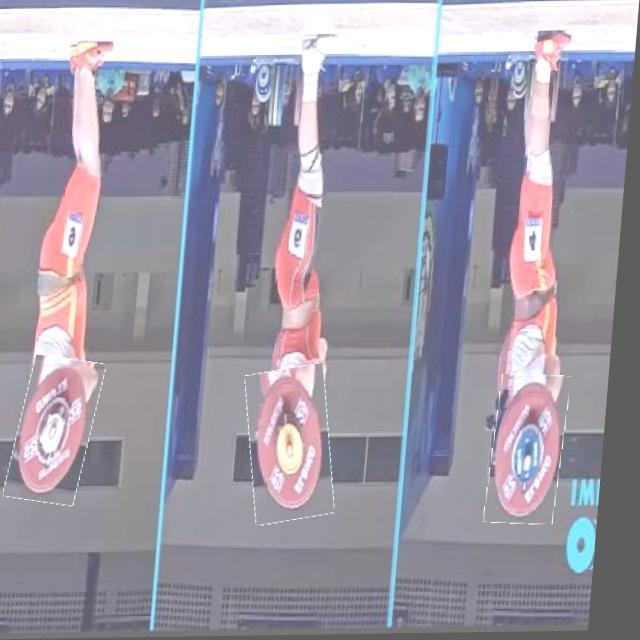barbell: (249, 367, 348, 525), (17, 357, 109, 506), (495, 376, 577, 526)
